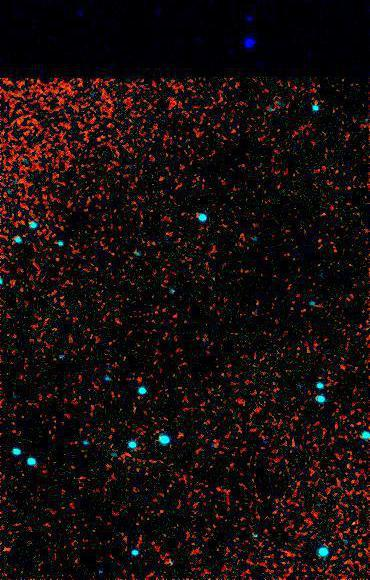star: (0, 538, 19, 568)
